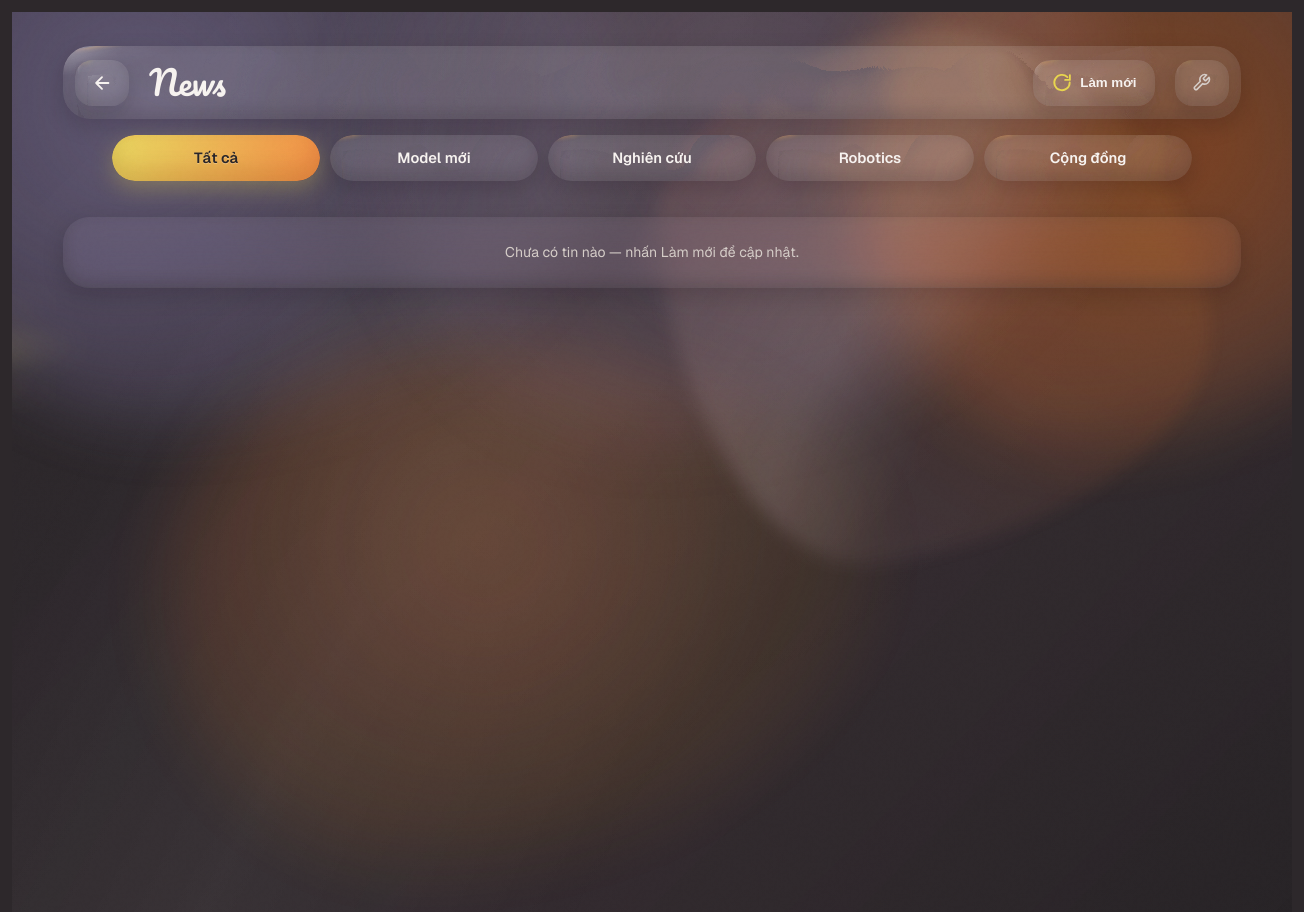
Test: NewsPage › refresh button shows loading state then refetches
Click the button "Làm mới" at point(1094, 83), box [1033,60,1155,106]
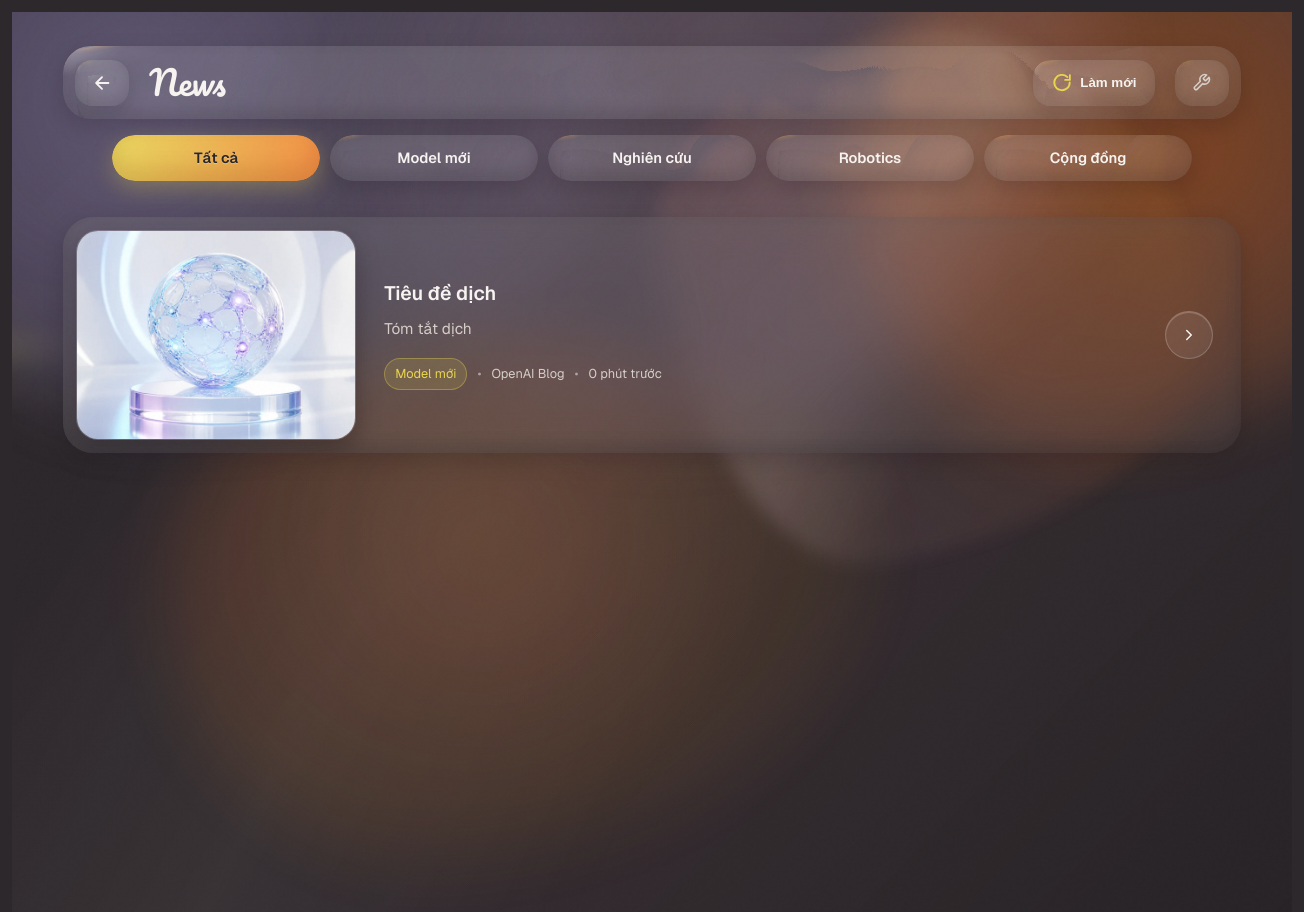
Now the link "Tiêu đề dịch" is shown, box [384,280,496,306]
